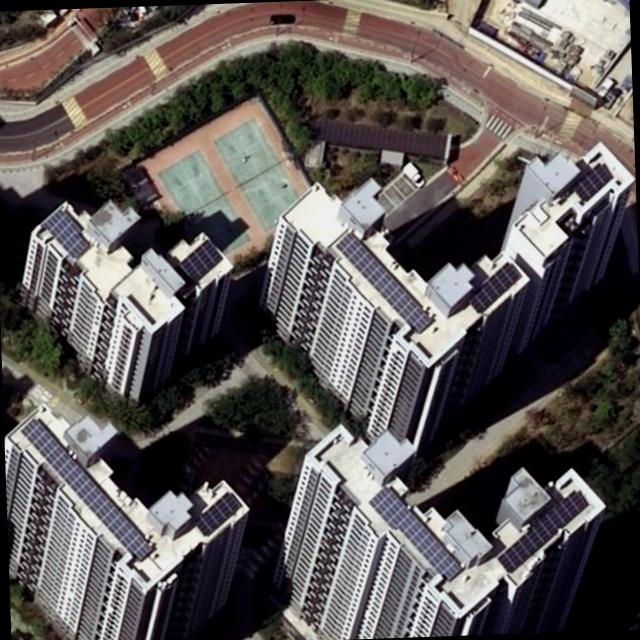solar: (19, 412, 158, 568), (334, 227, 436, 336), (367, 484, 463, 584), (492, 490, 590, 574), (465, 261, 524, 316), (39, 206, 93, 261), (171, 238, 226, 286), (190, 490, 242, 538), (569, 162, 612, 203)
